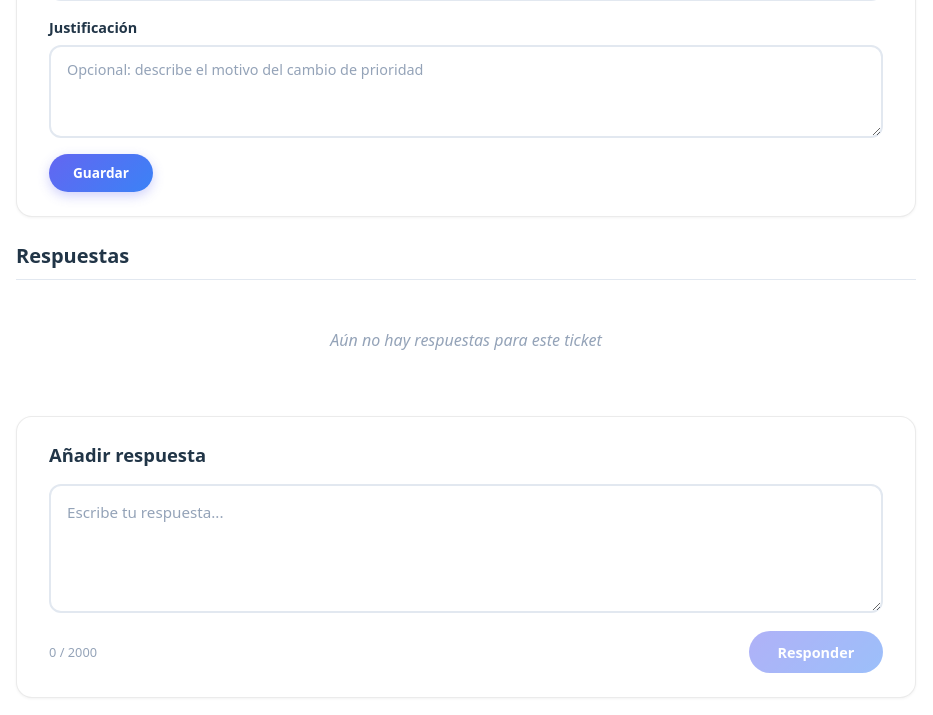
Test: TicketDetail — HU-3.2: Formulario de respuesta (solo ADMIN, ticket no CLOSED) › estado del botón Responder › vuelve a deshabilitarse si el texto se borra
(page scrolled)
Type "Texto" into the text box with test id "response-textarea" at x=466, y=549, box x1=49 y1=484 x2=883 y2=614
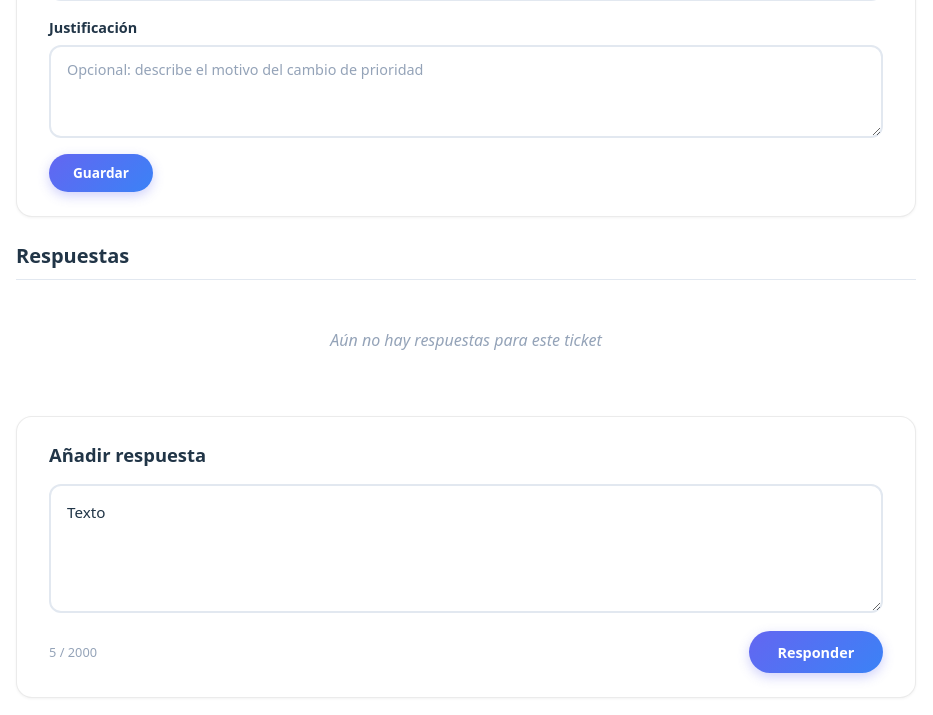
Result: the button "Responder" is enabled at x1=749 y1=632 x2=883 y2=673
Clear the text box with test id "response-textarea" at x=466, y=549, box x1=49 y1=484 x2=883 y2=614
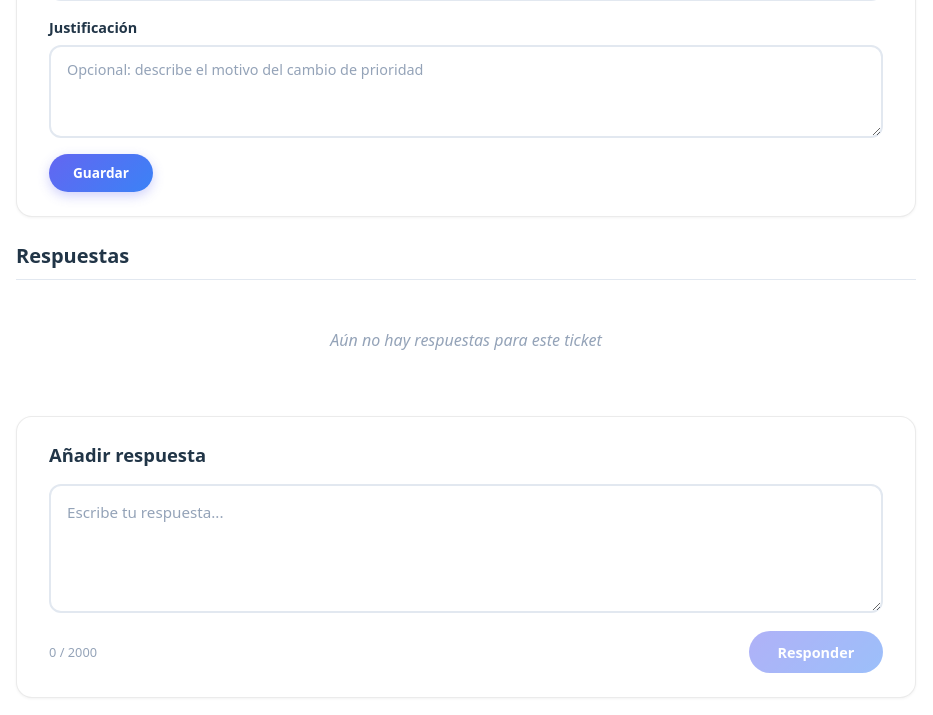
Result: the button "Responder" is disabled at x1=749 y1=632 x2=883 y2=673
